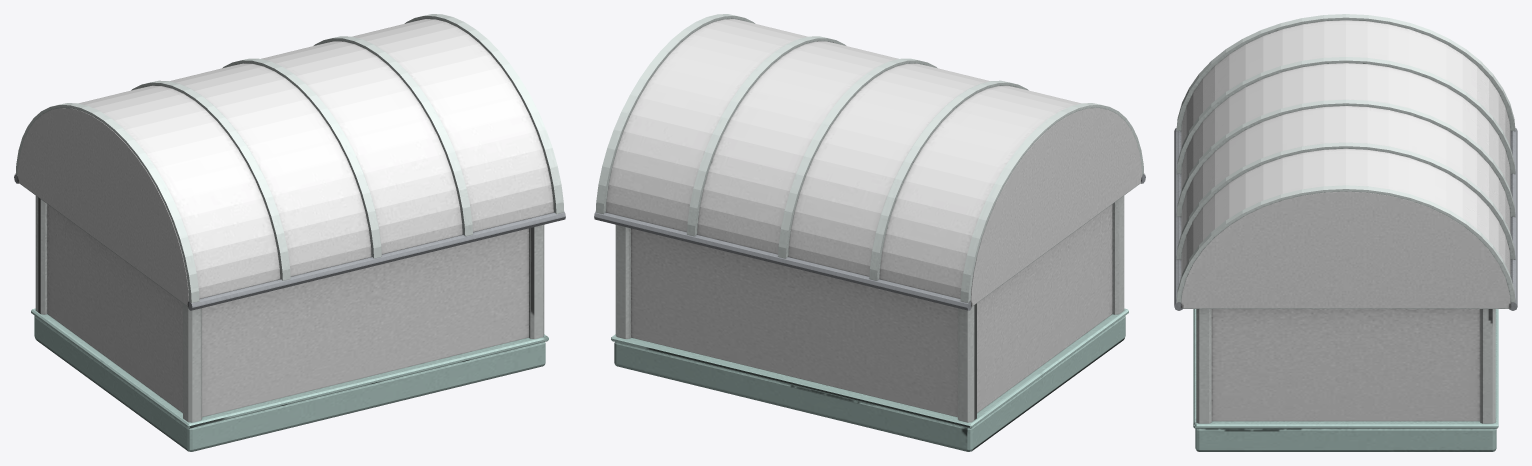
The model's file is station.glb.
3 views of the same model, side by side, from view 1: azimuth 30°, elevation 25°; view 2: azimuth 150°, elevation 25°; view 3: azimuth 270°, elevation 25° (orthographic). The views are drawn at different scales.
Parts seen in each view (by area): view 1: Dach, Wand; view 2: Dach, Wand; view 3: Dach, Wand.
Boxes of the visible parts, x1,y1,x2,y2 form: Dach: [14, 14, 565, 310]; Wand: [31, 196, 548, 451]; Dach: [594, 14, 1145, 310]; Wand: [611, 196, 1128, 451]; Dach: [1174, 14, 1517, 310]; Wand: [1193, 309, 1498, 451].
Bounding box in the file's own units: 4.3 × 3.06 × 3.56.
Materials: 1 (1 with a texture image).
